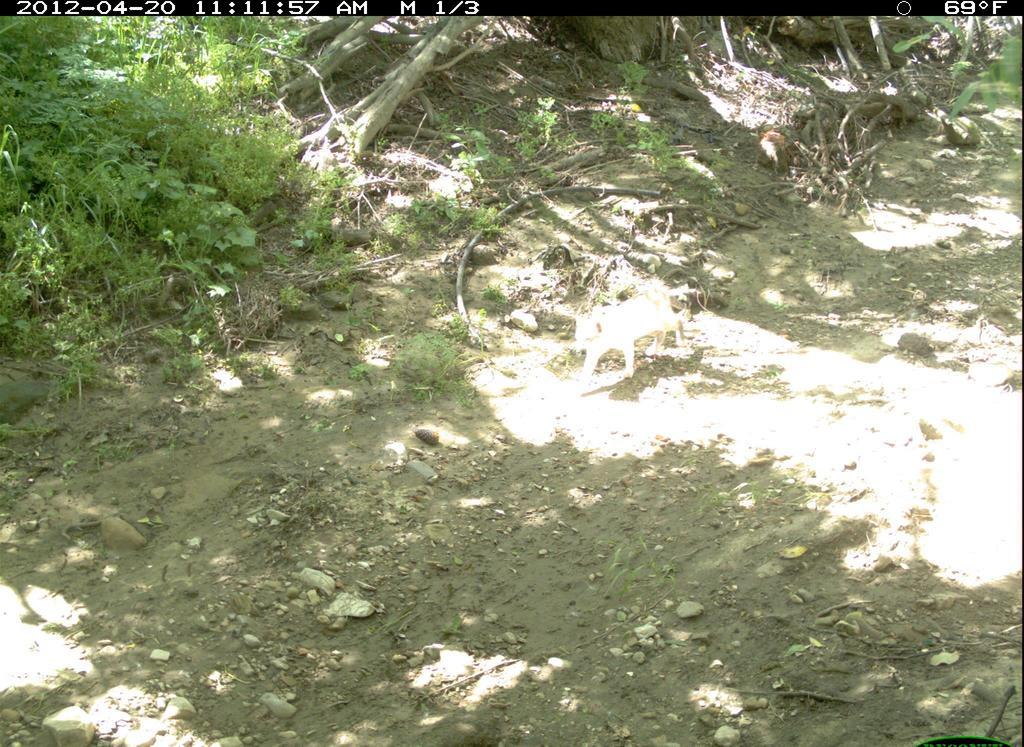cat: (562, 269, 706, 408)
